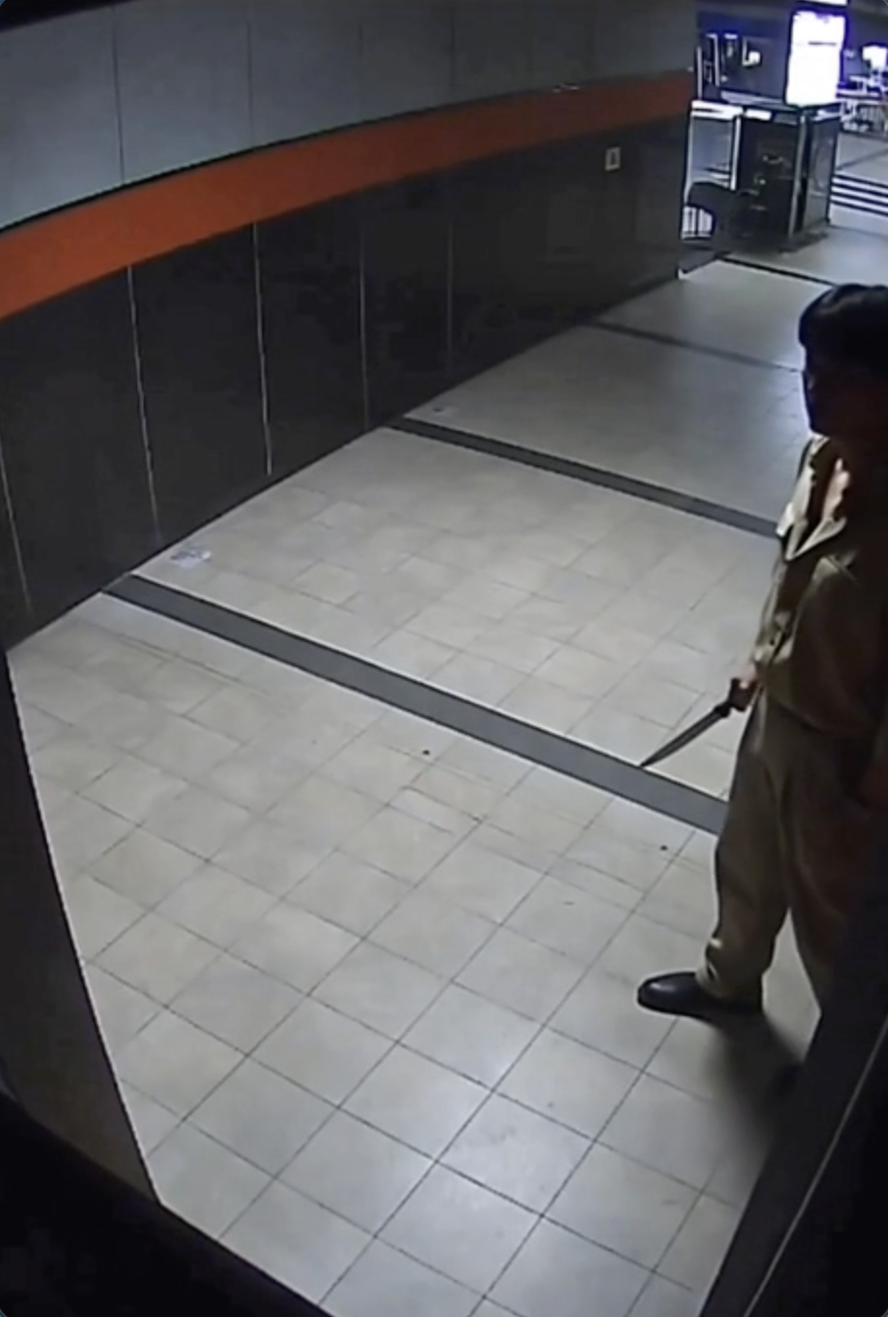Heavy Gun: (634, 267, 885, 1084)
Knife: (637, 662, 761, 788)
